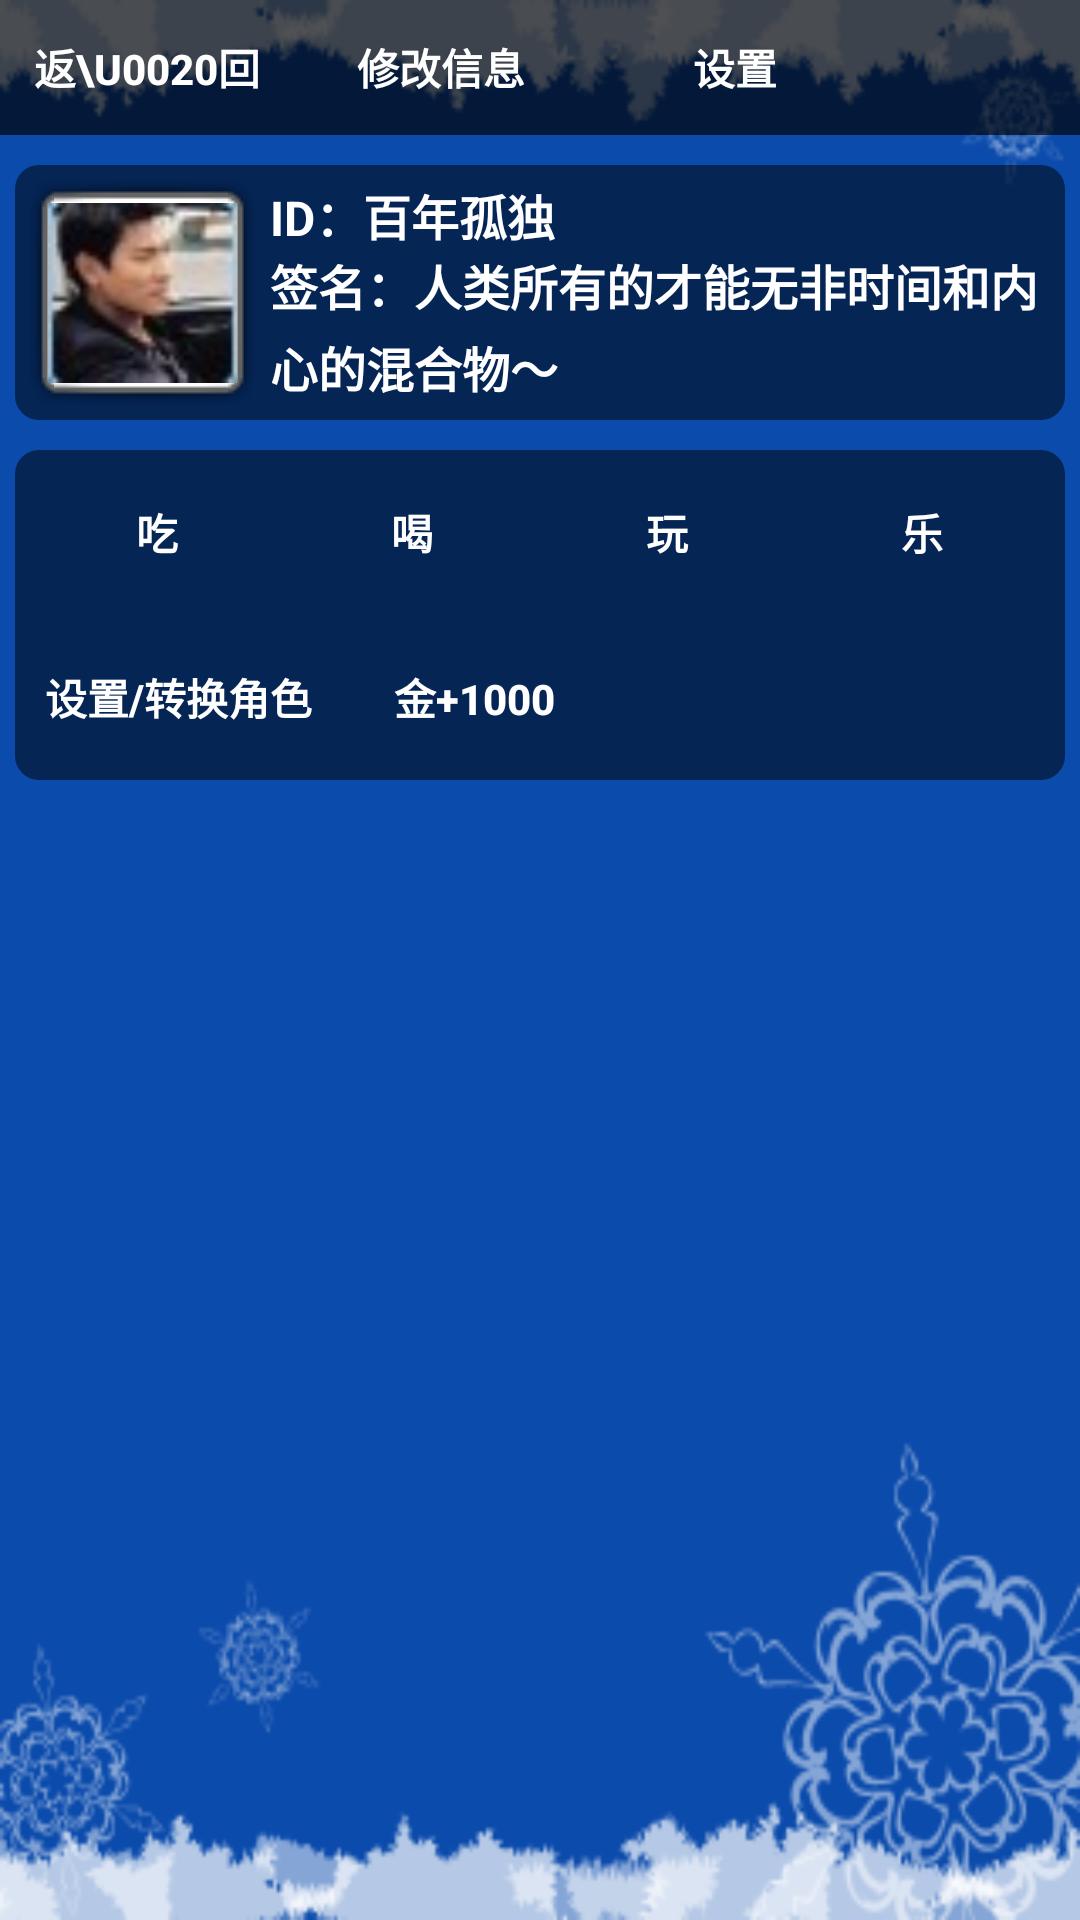

Screen size 1080px×1920px. Icon name, then its center in pixels as point (x, y):
head: point (142, 292)
